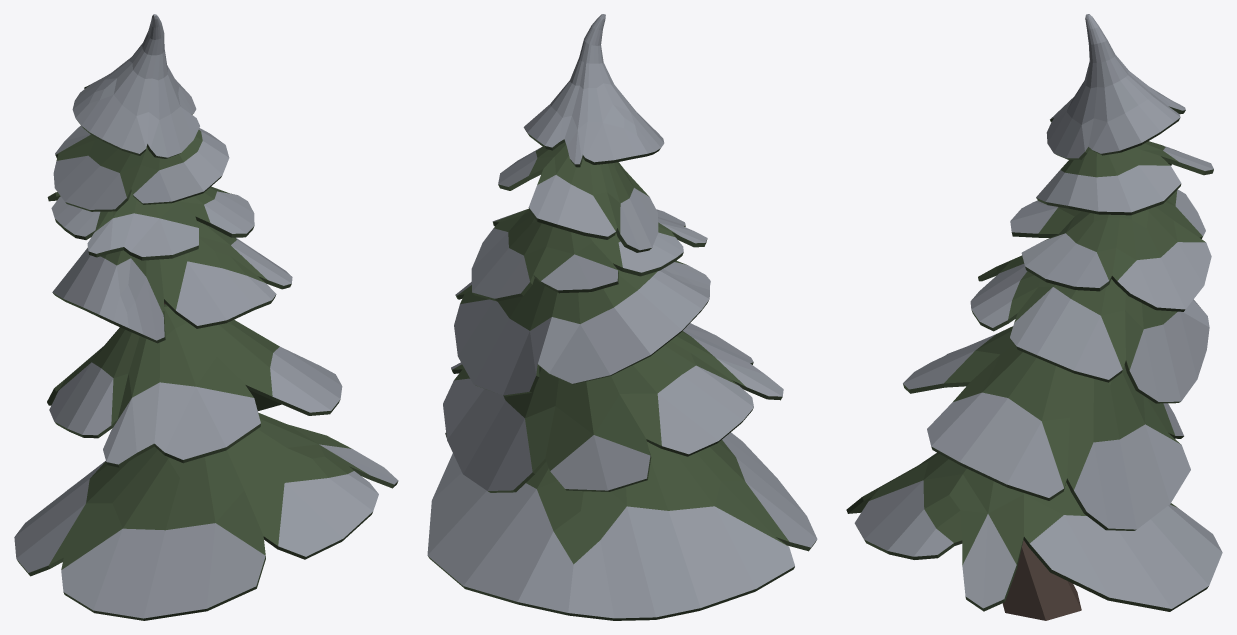
Rendered from sn_pine_3.glb.
3 renders of one model, left to right at view 1: azimuth 30°, elevation 25°; view 2: azimuth 150°, elevation 25°; view 3: azimuth 270°, elevation 25°, orthographic. The views are drawn at different scales.
Visible parts, largest first — view 1: PineTree_Snow_3; view 2: PineTree_Snow_3; view 3: PineTree_Snow_3.
Boxes of the visible parts, x1=… form: PineTree_Snow_3: x1=14, y1=14, x2=398, y2=620; PineTree_Snow_3: x1=427, y1=14, x2=817, y2=620; PineTree_Snow_3: x1=846, y1=14, x2=1222, y2=620.
Bounding box in the file's own units: 2.16 × 3.3 × 1.95.
